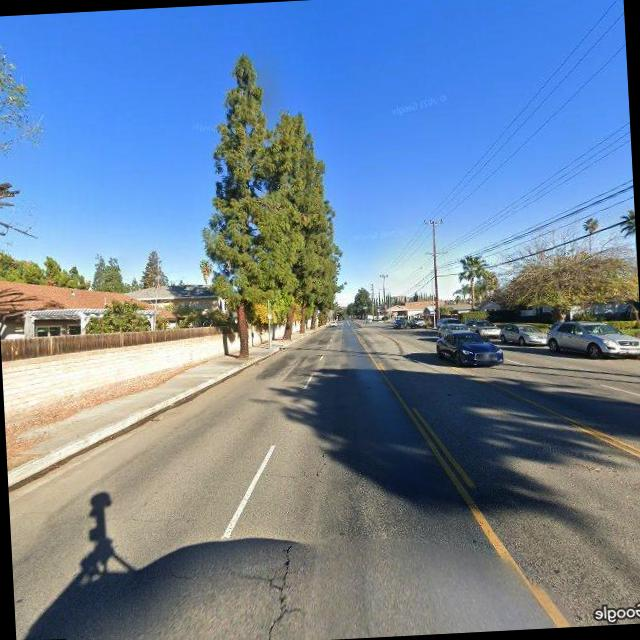pothole: (265, 535, 302, 640)
